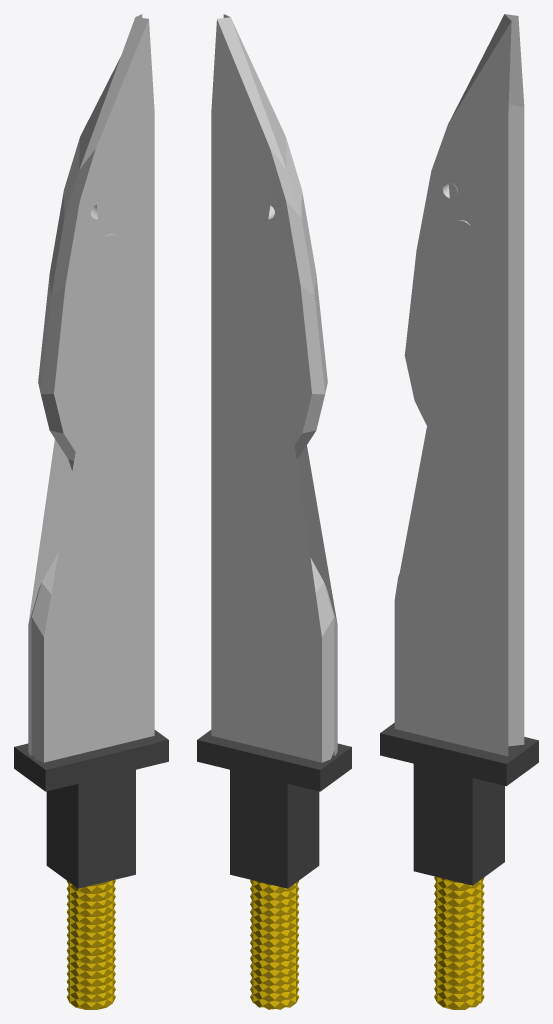
Rendered from Espada3.fbx.
3 views of the same model, side by side, from view 1: azimuth 30°, elevation 25°; view 2: azimuth 150°, elevation 25°; view 3: azimuth 330°, elevation 25° (orthographic). The views are drawn at different scales.
Parts seen in each view (by area): view 1: Cube.006; view 2: Cube.006; view 3: Cube.006.
Boxes of the visible parts, x1,y1,x2,y2 form: Cube.006: [14, 14, 168, 1009]; Cube.006: [197, 14, 351, 1009]; Cube.006: [380, 14, 538, 1009].
Bounding box in the file's own units: 61.56 × 466 × 27.29.
